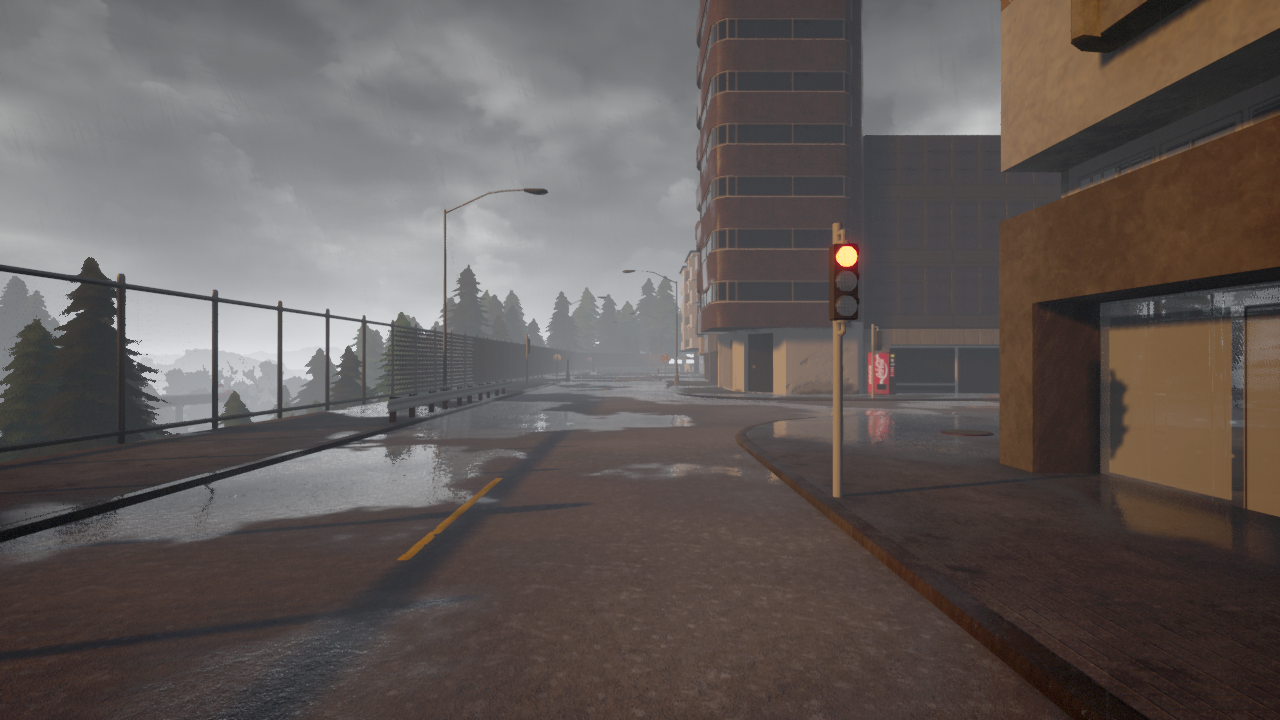red: (828, 240, 863, 319)
